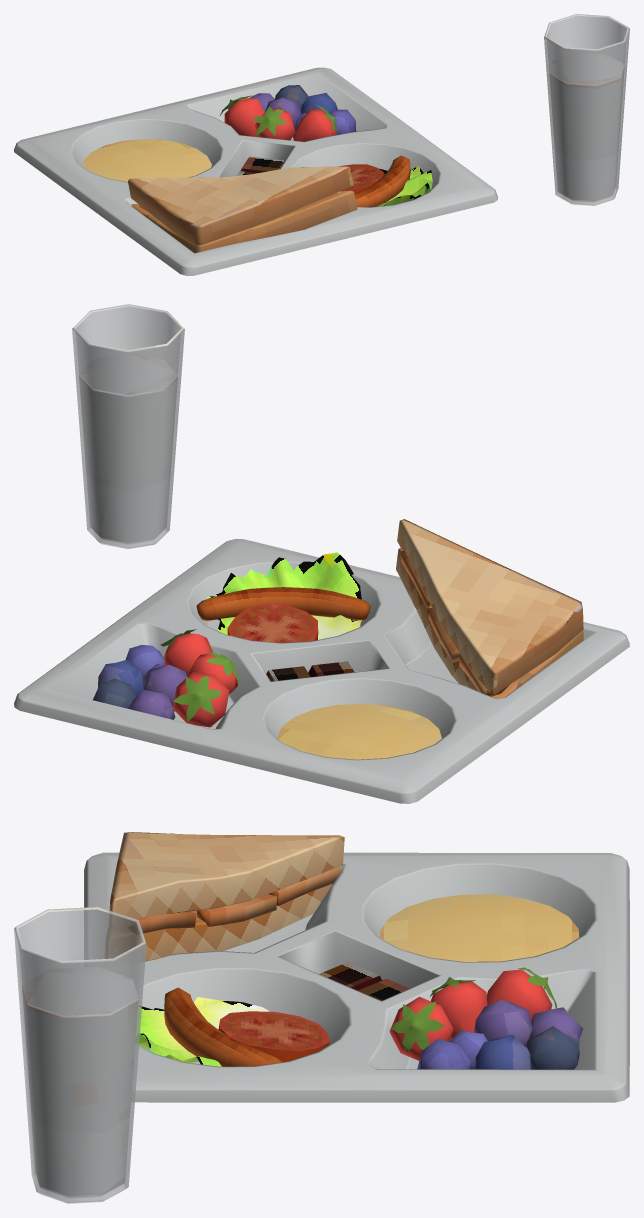
File: a_sch_cafe01_lunch02.gltf
3 views of the same model, one above another, from view 1: azimuth 30°, elevation 25°; view 2: azimuth 150°, elevation 25°; view 3: azimuth 270°, elevation 25° (orthographic). The views are drawn at different scales.
Visible parts, largest first — view 1: um_a_sch_cafe01_lunch02_model_a_sch_cafe01_lunch02_modelShap (×8); view 2: um_a_sch_cafe01_lunch02_model_a_sch_cafe01_lunch02_modelShap (×8); view 3: um_a_sch_cafe01_lunch02_model_a_sch_cafe01_lunch02_modelShap (×8).
Part boxes in pixels (x1,y1,x2,y2): um_a_sch_cafe01_lunch02_model_a_sch_cafe01_lunch02_modelShap (×8): [14, 14, 629, 275]; um_a_sch_cafe01_lunch02_model_a_sch_cafe01_lunch02_modelShap (×8): [14, 304, 629, 803]; um_a_sch_cafe01_lunch02_model_a_sch_cafe01_lunch02_modelShap (×8): [14, 832, 629, 1203].
Size of the model in its own units: 0.4341 by 0.1573 by 0.3417.
8 materials, 8 textured.
